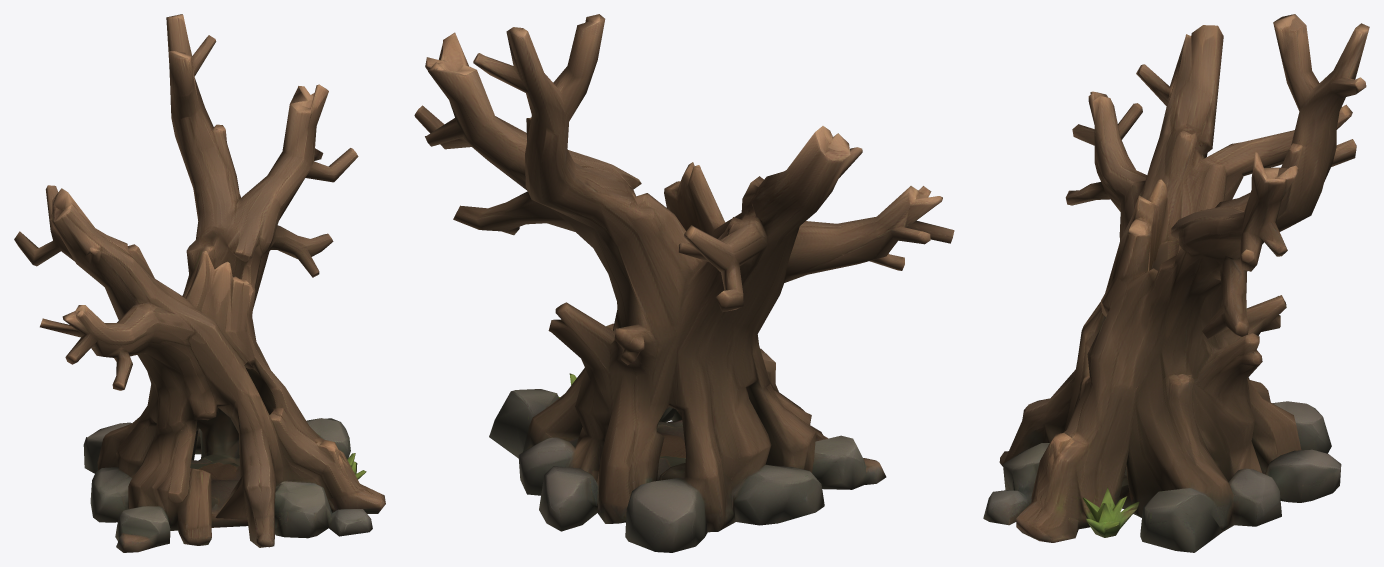
Rendered from NoLeafTree.fbx.
3 renders of one model, left to right at view 1: azimuth 30°, elevation 25°; view 2: azimuth 150°, elevation 25°; view 3: azimuth 270°, elevation 25°, orthographic. The views are drawn at different scales.
Parts seen in each view (by area): view 1: Mesh_0; view 2: Mesh_0; view 3: Mesh_0.
Part boxes in pixels (box(x1,y1,x2,y2)): Mesh_0: box(14, 14, 385, 552); Mesh_0: box(414, 14, 954, 552); Mesh_0: box(983, 14, 1369, 552).
Bounding box in the file's own units: 180 × 191 × 141.
Materials: 1 (1 with a texture image).
